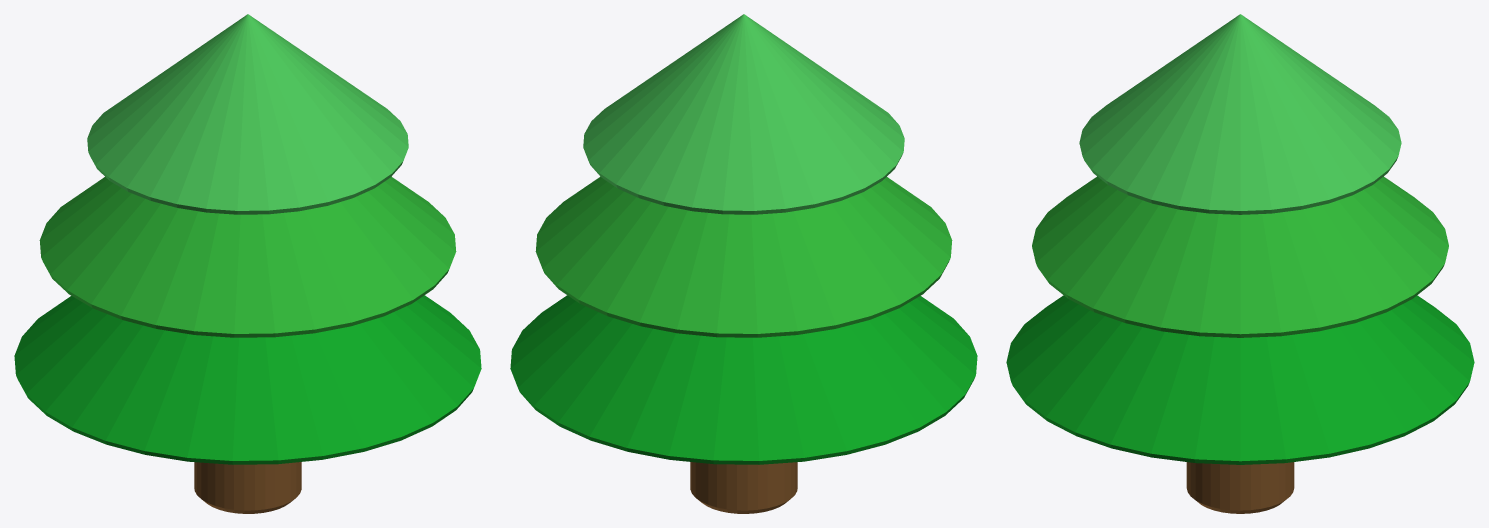
File: 矮松树1.fbx
3 renders of one model, left to right at view 1: azimuth 30°, elevation 25°; view 2: azimuth 150°, elevation 25°; view 3: azimuth 270°, elevation 25°, orthographic.
Visible parts, largest first — view 1: Cone.002, Cone.001, Cone, Cylinder; view 2: Cone.002, Cone.001, Cone, Cylinder; view 3: Cone.002, Cone.001, Cone, Cylinder.
Boxes of the visible parts, <box> form: Cone.002: <box>14,295,481,464</box>; Cone.001: <box>39,176,456,337</box>; Cone: <box>87,14,408,214</box>; Cylinder: <box>194,462,301,513</box>; Cone.002: <box>510,295,977,464</box>; Cone.001: <box>535,176,952,337</box>; Cone: <box>583,14,904,214</box>; Cylinder: <box>690,462,797,513</box>; Cone.002: <box>1006,295,1474,464</box>; Cone.001: <box>1032,176,1448,337</box>; Cone: <box>1079,14,1401,214</box>; Cylinder: <box>1186,462,1294,513</box>.
Bounding box in the file's own units: 2.45 × 2.78 × 2.45.
